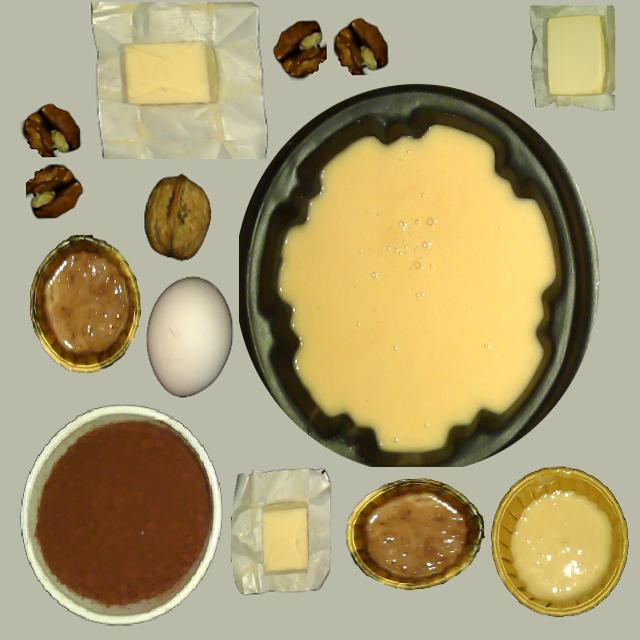Cocoa: (20, 403, 220, 623)
Walnut: (231, 468, 332, 596), (144, 175, 210, 259)
